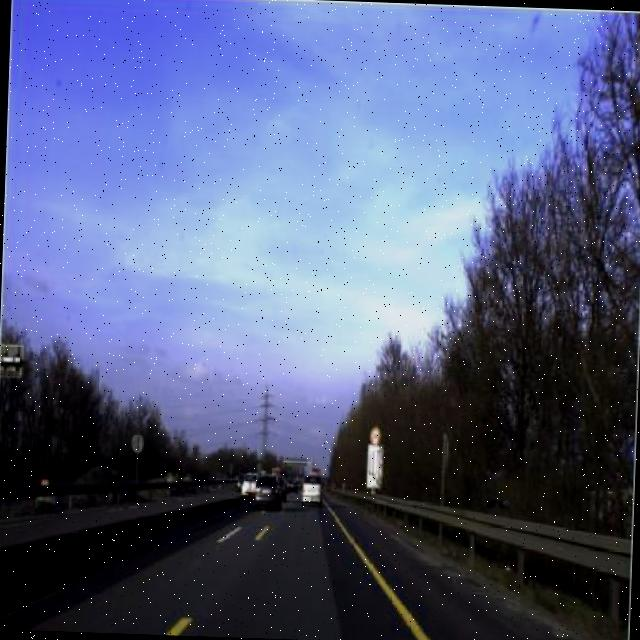Ograniczenie predkosci do 80: (368, 425, 382, 445)
